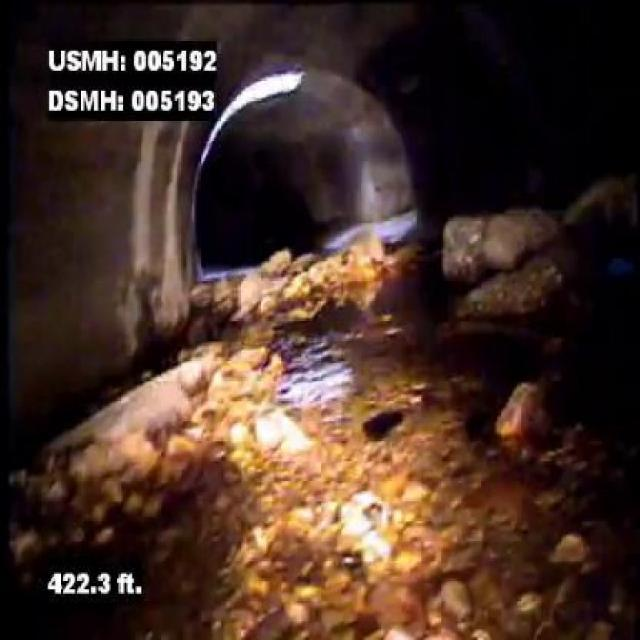Obstacle: (29, 334, 251, 541), (428, 182, 598, 328)
